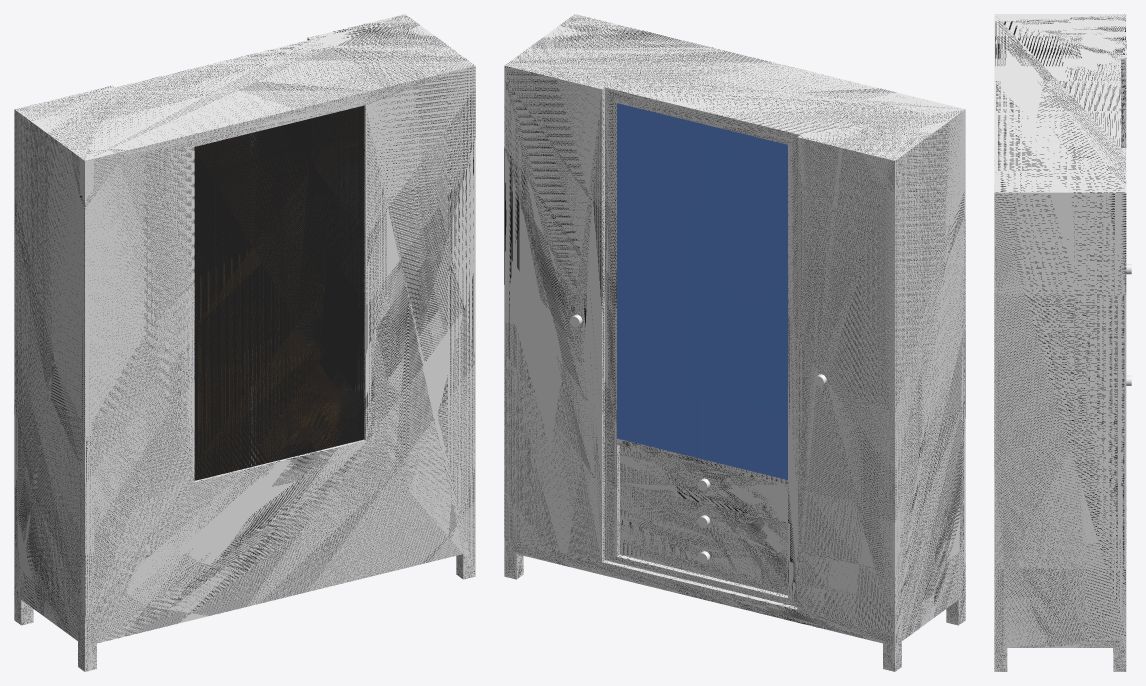
3 views of the same model, side by side, from view 1: azimuth 30°, elevation 25°; view 2: azimuth 150°, elevation 25°; view 3: azimuth 270°, elevation 25° (orthographic). The views are drawn at different scales.
Parts seen in each view (by area): view 1: mesh26_mesh26-geometry; view 2: mesh26_mesh26-geometry; view 3: mesh26_mesh26-geometry.
Boxes of the visible parts, x1,y1,x2,y2 form: mesh26_mesh26-geometry: (14,14,475,671); mesh26_mesh26-geometry: (504,14,965,671); mesh26_mesh26-geometry: (994,14,1131,671).
Size of the model in its own units: 0.6122 by 0.7653 by 0.199.
